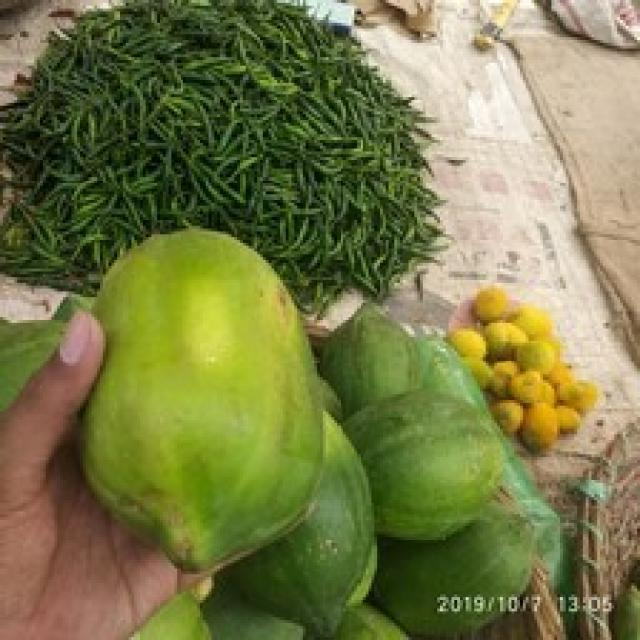Pepaya unrippen: (61, 214, 331, 578)
